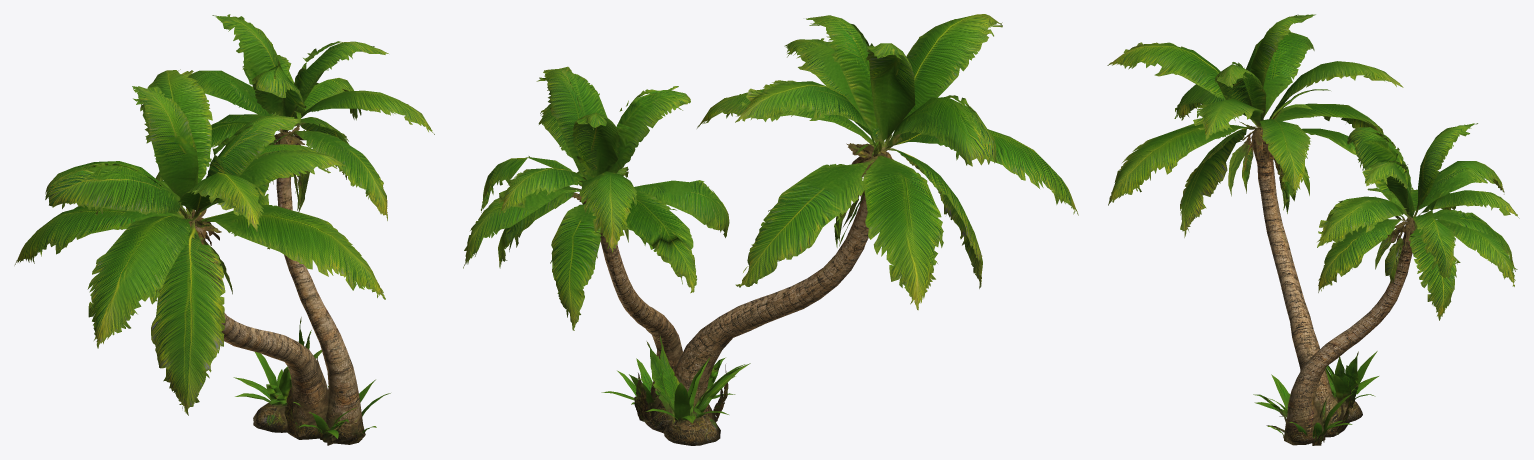
The model's file is tree.glb.
The picture shows the model from 3 angles, left to right: view 1: azimuth 30°, elevation 25°; view 2: azimuth 150°, elevation 25°; view 3: azimuth 270°, elevation 25°; orthographic projection. The views are drawn at different scales.
Parts seen in each view (by area): view 1: Model; view 2: Model; view 3: Model.
Boxes of the visible parts, x1,y1,x2,y2 form: Model: [14, 14, 434, 445]; Model: [463, 14, 1078, 445]; Model: [1107, 14, 1519, 445].
Size of the model in its own units: 1 by 0.91 by 1.
1 material, 1 textured.
